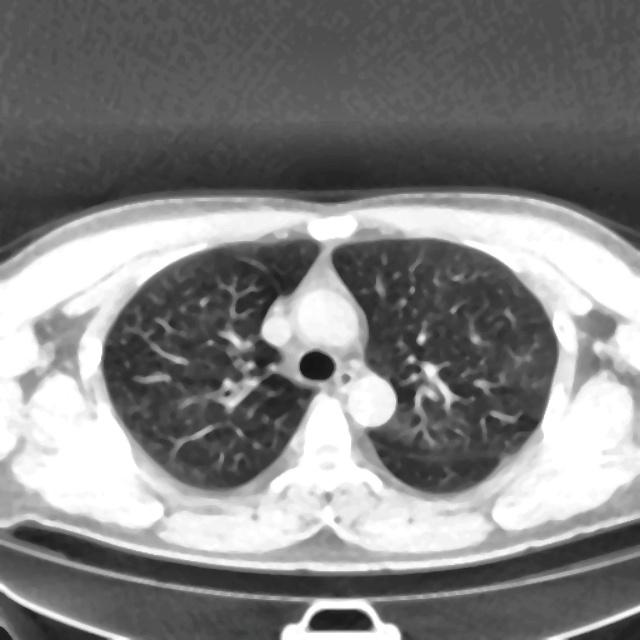covid: (1, 187, 639, 574)
